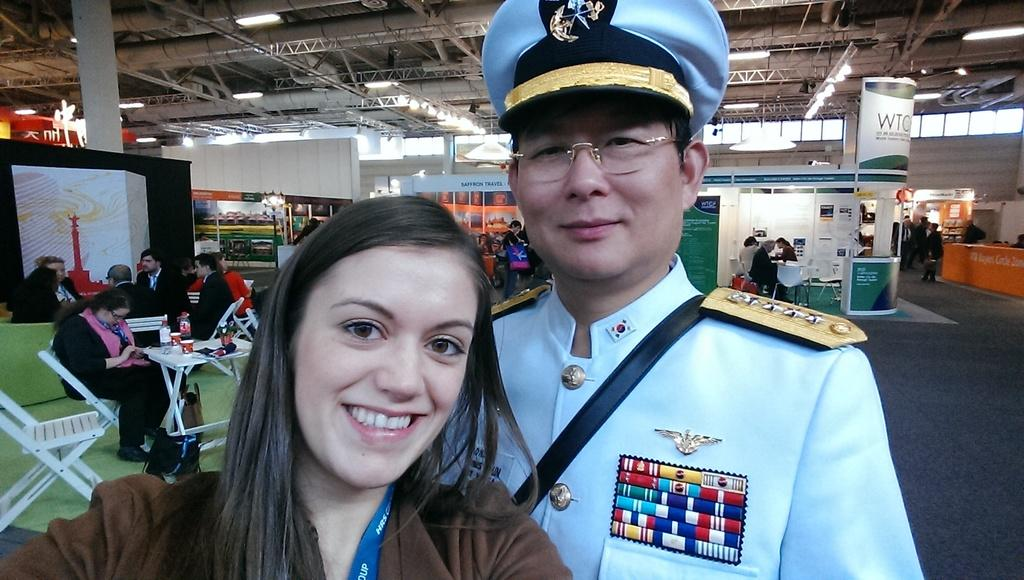Hat: (480, 0, 730, 136)
